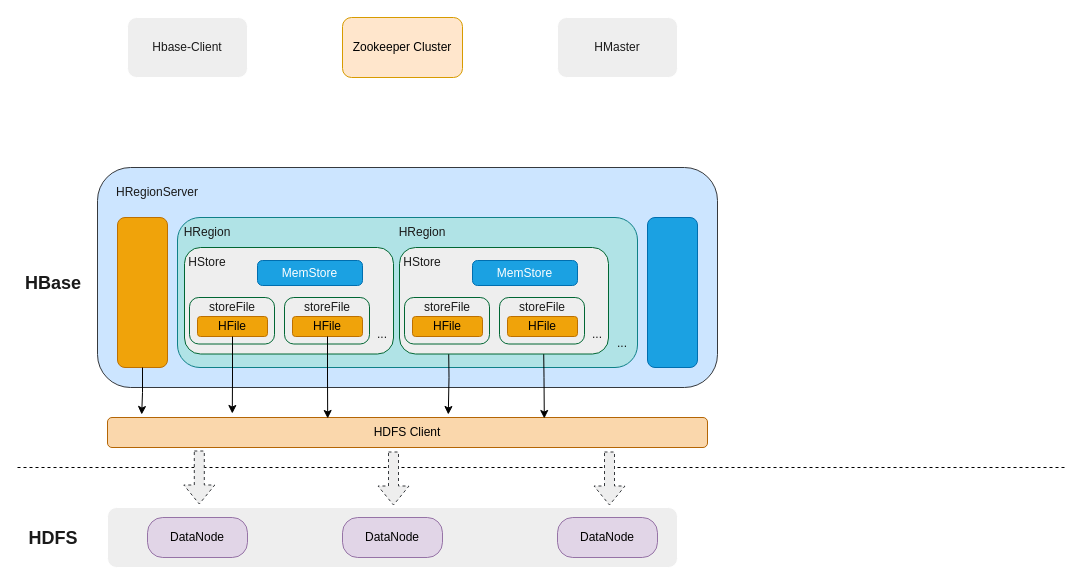
This 1086x585 diagram has some shape labels left out. Here are the shapes that lost their labels. From the top down, the box of each, then its label:
(116, 216, 168, 368): HLog
(646, 216, 698, 368): Block Cache
